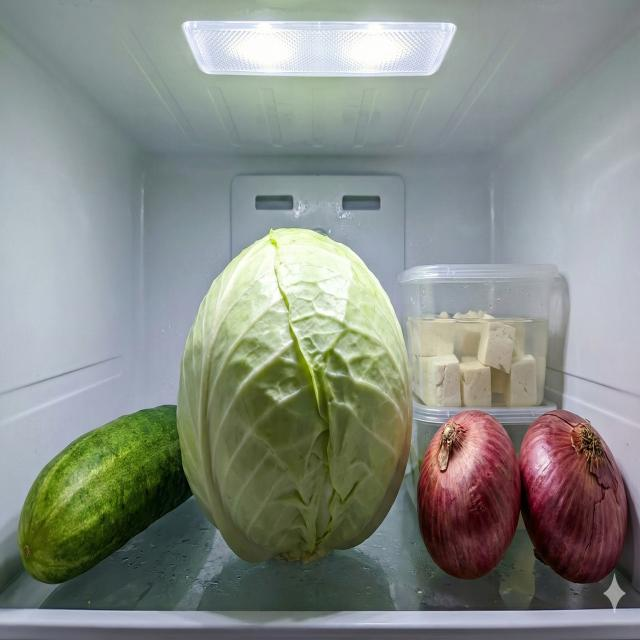cabbage: (176, 226, 414, 566)
cucumber: (17, 400, 194, 586)
onion: (416, 409, 629, 584)
tofu: (406, 309, 539, 410)
